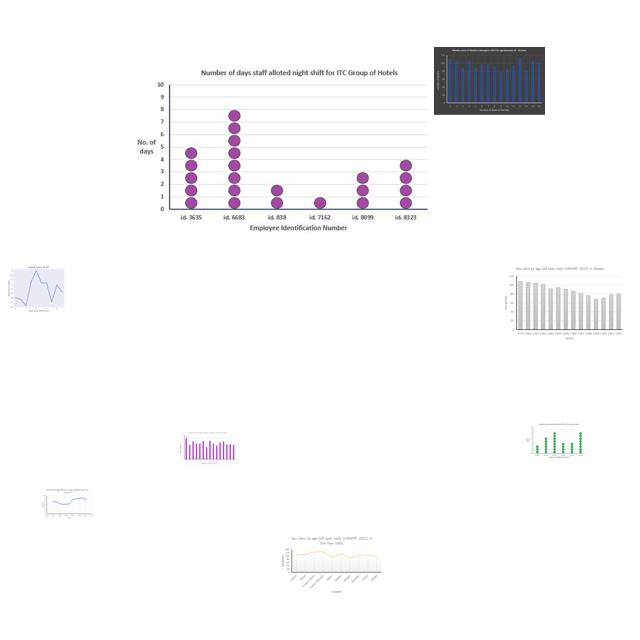Graph: (127, 65, 434, 238), (501, 266, 625, 342), (434, 47, 545, 115), (279, 535, 382, 594), (5, 263, 71, 313), (525, 422, 586, 460), (178, 431, 237, 466), (41, 488, 94, 520)
